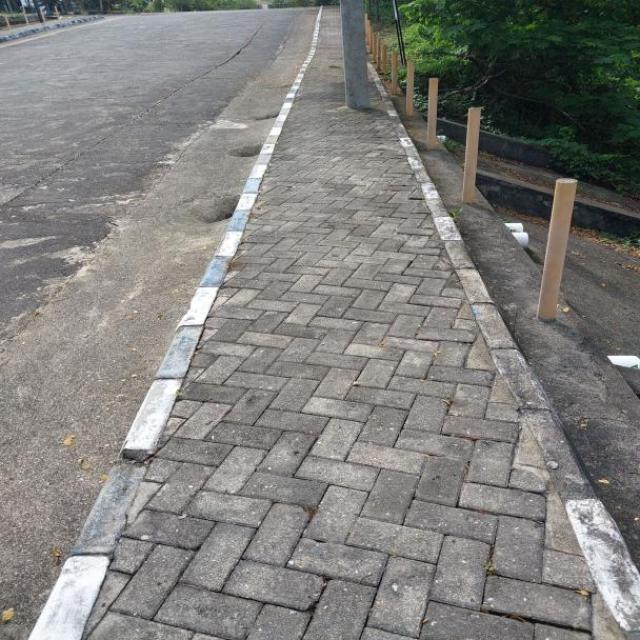barrier ahead at: (532, 164, 588, 330), (456, 100, 488, 206)
